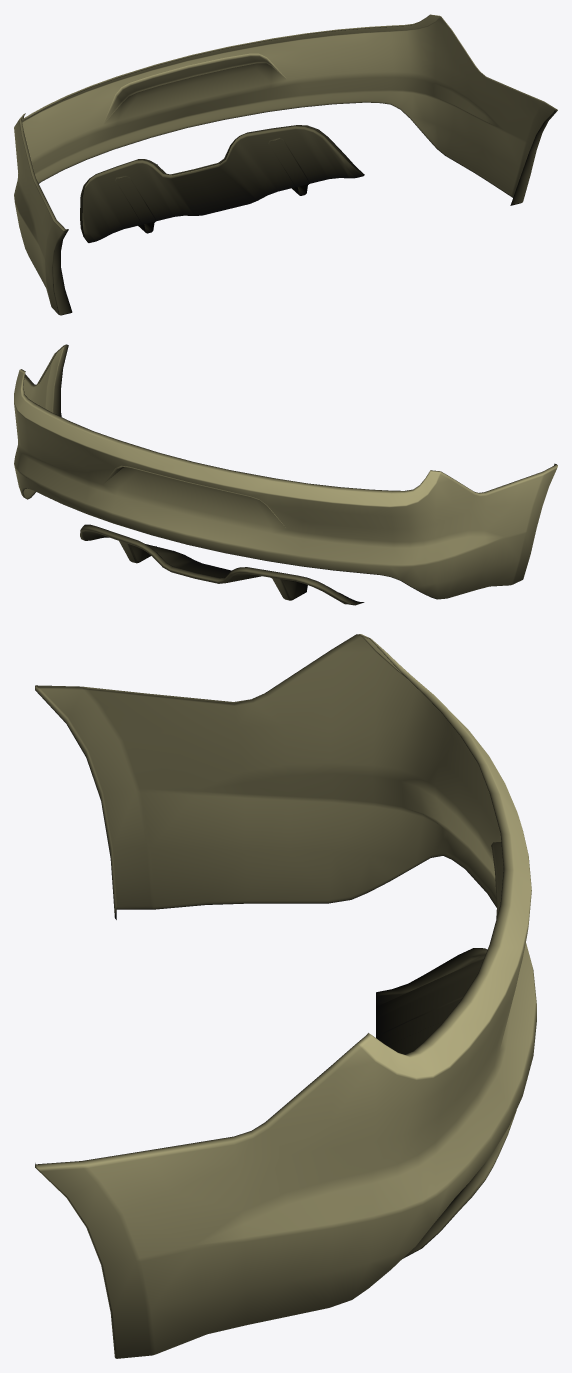
File: Mustang16_RB_02_Duco.fbx
3 renders of one model, top to bottom at view 1: azimuth 30°, elevation 25°; view 2: azimuth 150°, elevation 25°; view 3: azimuth 270°, elevation 25°, orthographic. The views are drawn at different scales.
Parts seen in each view (by area): view 1: Mustang16_RB_02_Duco; view 2: Mustang16_RB_02_Duco; view 3: Mustang16_RB_02_Duco.
Boxes of the visible parts, x1,y1,x2,y2 form: Mustang16_RB_02_Duco: [14, 14, 557, 315]; Mustang16_RB_02_Duco: [14, 344, 557, 605]; Mustang16_RB_02_Duco: [35, 634, 536, 1358].
Size of the model in its own units: 190 by 55.82 by 83.59.
